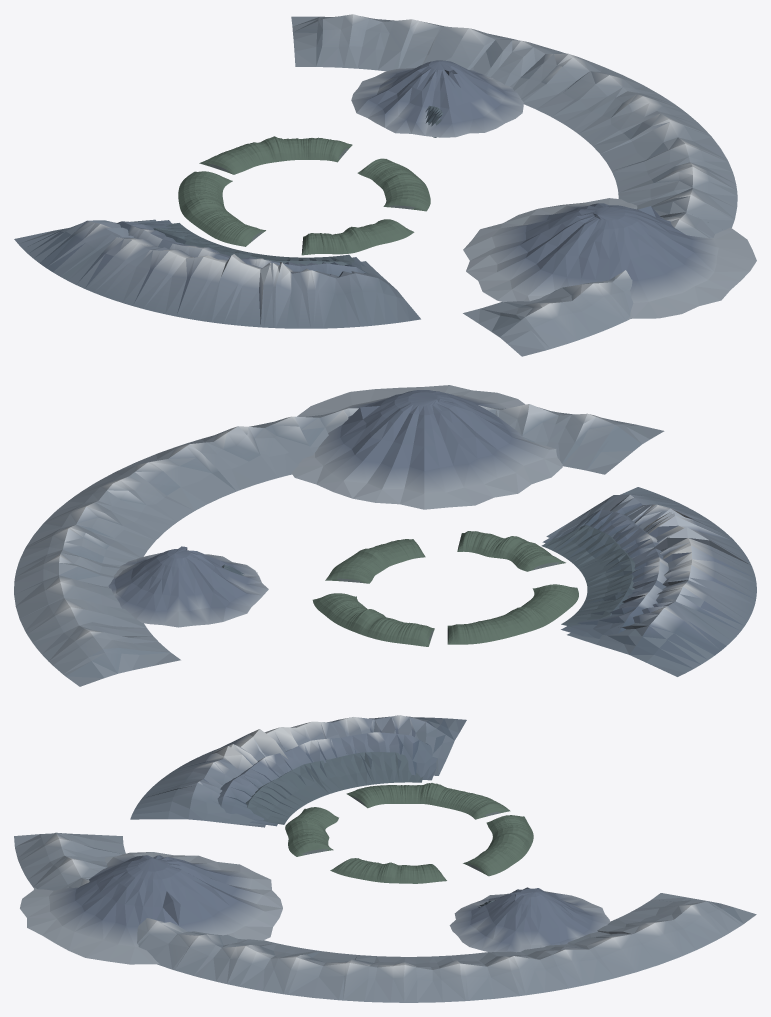
The model's file is backdrop_mountains.glb.
3 views of the same model, one above another, from view 1: azimuth 30°, elevation 25°; view 2: azimuth 150°, elevation 25°; view 3: azimuth 270°, elevation 25° (orthographic). The views are drawn at different scales.
Parts seen in each view (by area): view 1: backdrop_mountains; view 2: backdrop_mountains; view 3: backdrop_mountains.
Part boxes in pixels (x1,y1,x2,y2): backdrop_mountains: [14, 14, 756, 356]; backdrop_mountains: [14, 385, 756, 686]; backdrop_mountains: [14, 715, 756, 1002].
Size of the model in its own units: 14900 by 1108 by 16382.
